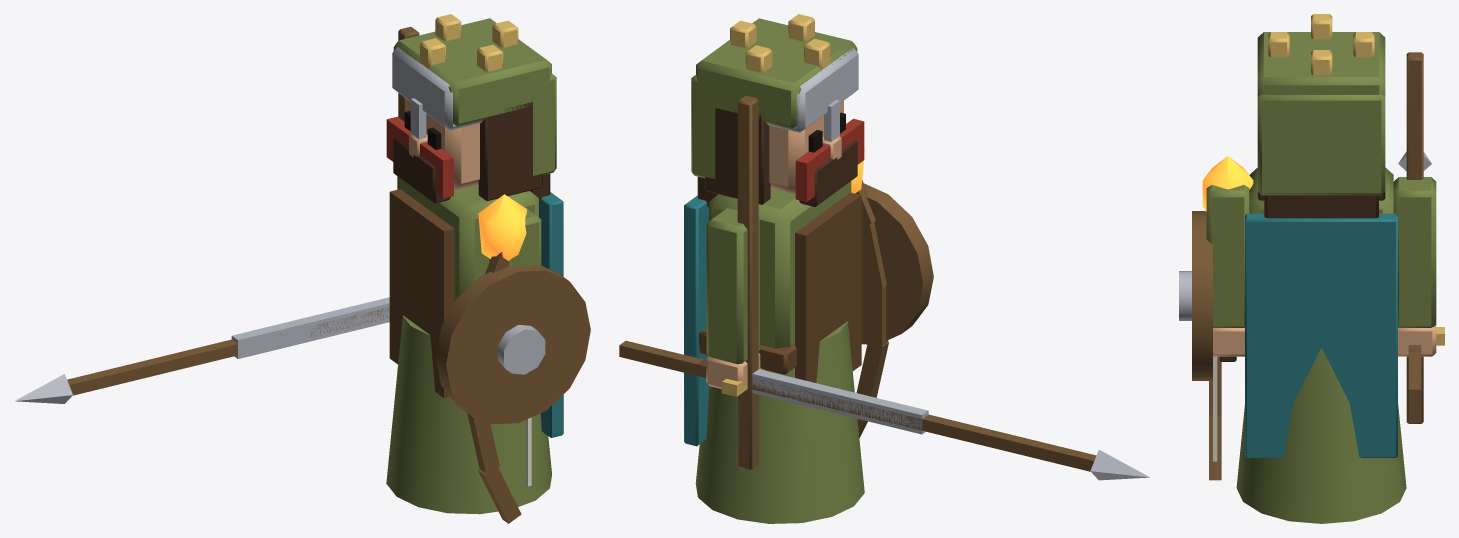
Rendered from person.glb.
The picture shows the model from 3 angles, left to right: view 1: azimuth 30°, elevation 25°; view 2: azimuth 150°, elevation 25°; view 3: azimuth 270°, elevation 25°; orthographic projection.
Visible parts, largest first — view 1: shield, robe, hood, apron, hairLong, spear, body, sword, helm, bow, head, cape (+5 smaller); view 2: robe, hood, apron, body, armR, spear, shield, staff, cape, sword, bow, helm (+5 smaller); view 3: cape, hood, robe, armR, armL, shield, staff, hairLong, crown, bow, torch, spear (+1 smaller).
Part boxes in pixels (<box>): shield: <box>435,265,590,424</box>; robe: <box>386,315,551,514</box>; hood: <box>393,18,556,175</box>; apron: <box>389,189,454,397</box>; hairLong: <box>478,102,550,203</box>; spear: <box>14,308,388,403</box>; body: <box>399,178,538,301</box>; sword: <box>231,297,389,358</box>; helm: <box>392,47,482,139</box>; bow: <box>467,252,531,523</box>; head: <box>404,99,479,190</box>; cape: <box>539,192,563,437</box>; robe: <box>695,321,864,523</box>; hood: <box>691,18,857,178</box>; apron: <box>795,192,861,382</box>; body: <box>699,181,851,374</box>; armR: <box>706,208,760,388</box>; spear: <box>619,340,1149,480</box>; shield: <box>861,183,933,344</box>; staff: <box>737,95,758,469</box>; cape: <box>684,195,709,446</box>; sword: <box>697,359,928,434</box>; bow: <box>855,180,888,438</box>; helm: <box>766,48,858,142</box>; cape: <box>1245,213,1397,457</box>; hood: <box>1257,32,1385,195</box>; robe: <box>1236,347,1406,523</box>; armR: <box>1393,177,1436,356</box>; armL: <box>1206,185,1249,356</box>; shield: <box>1179,211,1212,380</box>; staff: <box>1406,52,1423,423</box>; hairLong: <box>1257,192,1385,218</box>; crown: <box>1268,14,1374,75</box>; bow: <box>1209,356,1221,480</box>; torch: <box>1202,156,1253,361</box>; spear: <box>1398,151,1431,401</box>.
Bounding box in the file's own units: 1.43 × 1.19 × 0.625.
